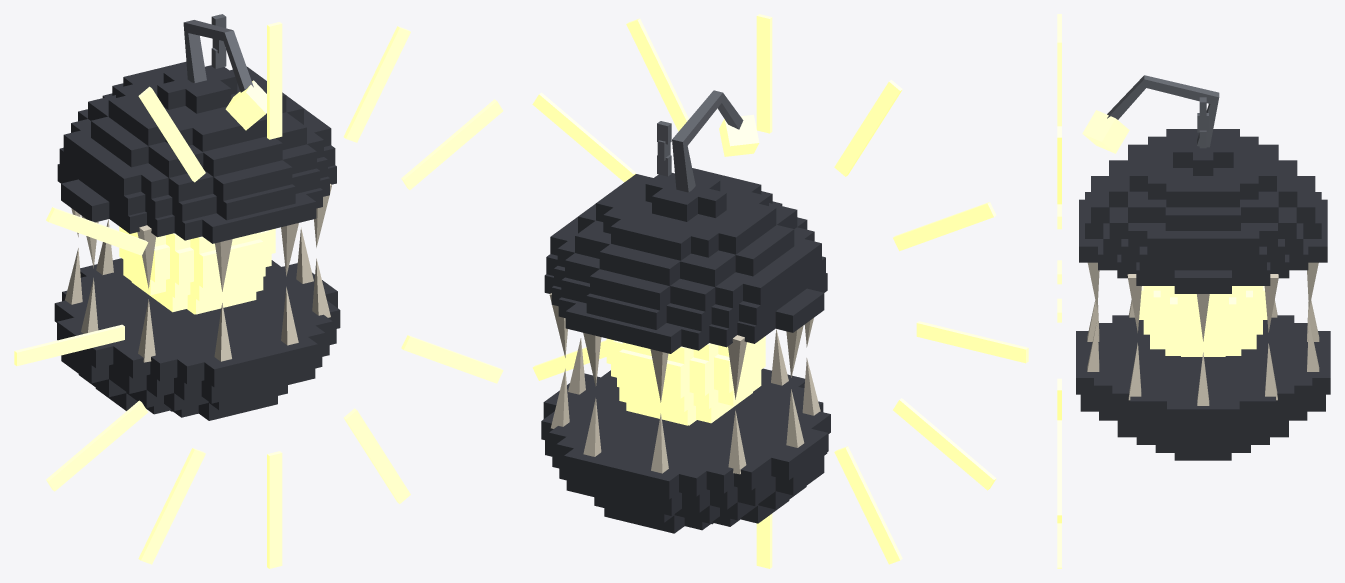
The picture shows the model from 3 angles, left to right: view 1: azimuth 30°, elevation 25°; view 2: azimuth 150°, elevation 25°; view 3: azimuth 270°, elevation 25°; orthographic projection. The views are drawn at different scales.
Parts seen in each view (by area): view 1: R041_Main, R041_Aura_Rays, R041_Glow, R041_Accent, R041_Trim; view 2: R041_Main, R041_Aura_Rays, R041_Glow, R041_Accent, R041_Trim; view 3: R041_Main, R041_Glow, R041_Accent, R041_Trim, R041_Aura_Rays.
Part boxes in pixels (box(x1,y1,x2,y2)): R041_Main: box(54, 62, 340, 420); R041_Aura_Rays: box(14, 22, 503, 568); R041_Glow: box(119, 80, 275, 314); R041_Accent: box(65, 184, 331, 362); R041_Trim: box(183, 14, 253, 92); R041_Main: box(541, 168, 830, 533); R041_Aura_Rays: box(532, 14, 1028, 568); R041_Glow: box(606, 114, 765, 425); R041_Accent: box(549, 293, 820, 474); R041_Trim: box(657, 90, 743, 192); R041_Main: box(1076, 129, 1330, 460); R041_Glow: box(1082, 110, 1267, 356); R041_Accent: box(1087, 262, 1319, 405); R041_Trim: box(1107, 75, 1219, 148); R041_Aura_Rays: box(1057, 14, 1061, 568).
Size of the model in its own units: 2.25 by 2.4 by 1.18.
